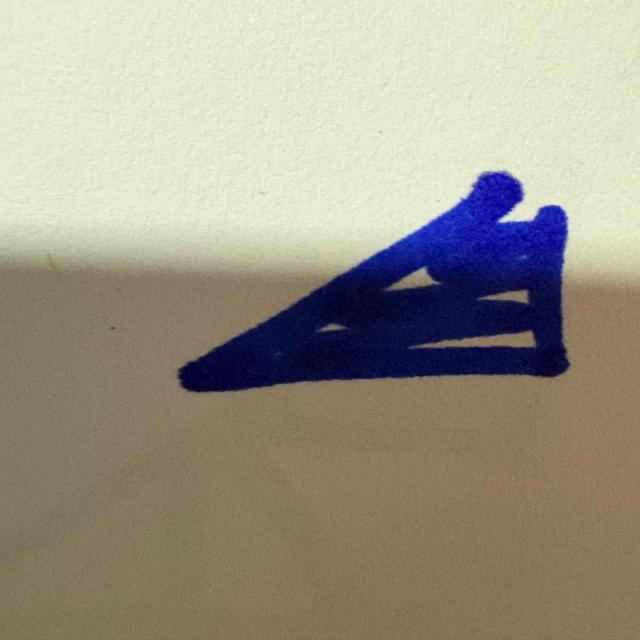Triangle: (173, 164, 581, 389)
